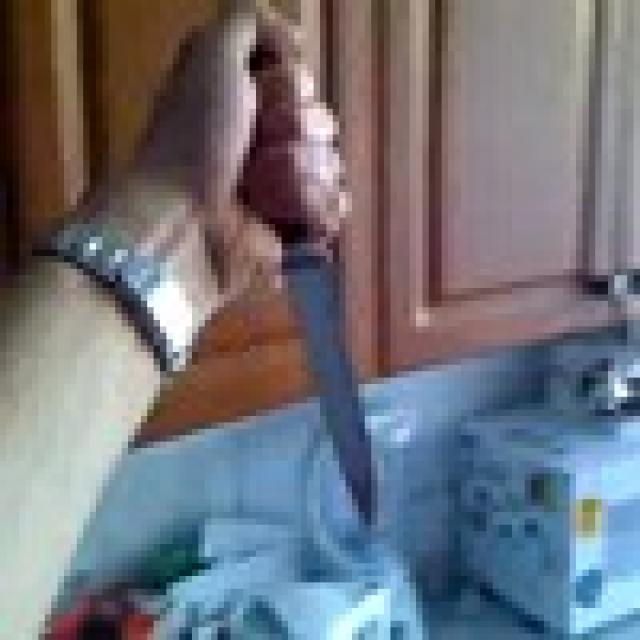Knife: (243, 45, 378, 525)
